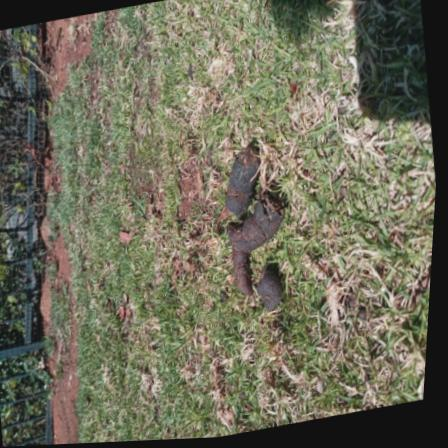dog-poop: (200, 136, 309, 323)
